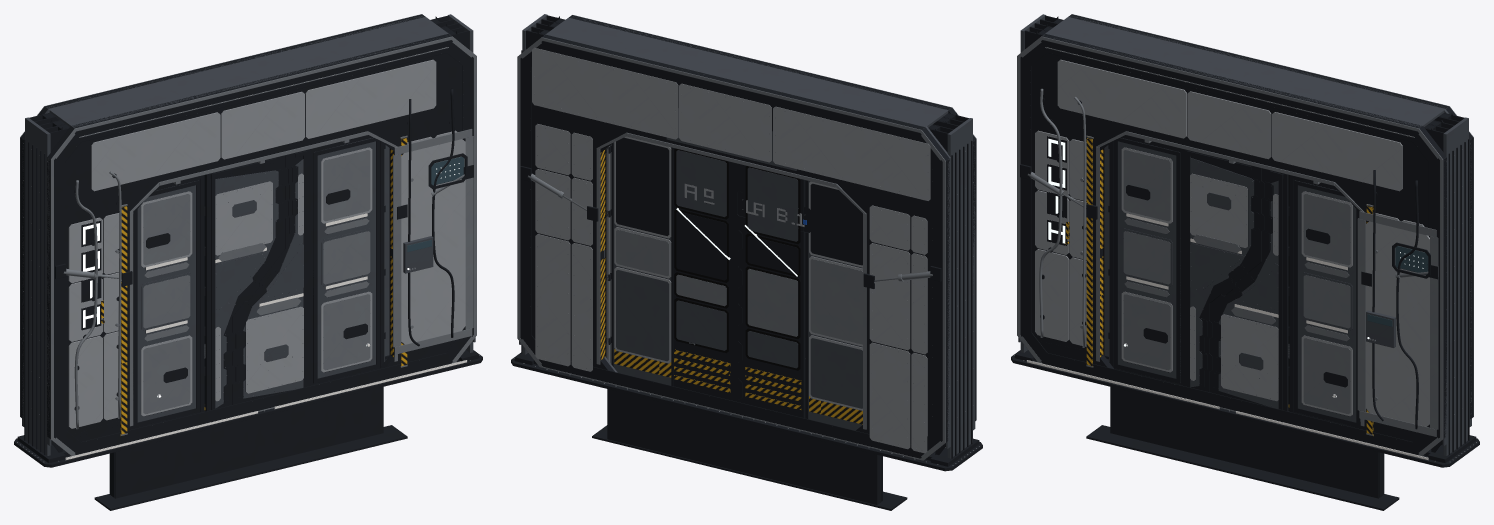
File: SM_TechBlastDoor_v1.fbx
3 views of the same model, side by side, from view 1: azimuth 30°, elevation 25°; view 2: azimuth 150°, elevation 25°; view 3: azimuth 330°, elevation 25° (orthographic).
Visible parts, largest first — view 1: GEO-OL_out_r, GEO-FR_lintel_panels, GEO-OL_out_l, GEO-FR_bezel, GEO-FR_bezel_field, GEO-OL_in_l, GEO-FR_foundation_slot_front, GEO-OL_in_r, GEO-FR_sidewall_r, GEO-FR_shell_top, GEO-FR_bezel_panels, GEO-FR_shell_l (+19 smaller); view 2: GEO-FR_bezel_back_panels, GEO-OD_in_r, GEO-OD_in_l, GEO-FR_bezel_back_field, GEO-OD_out_r, GEO-FR_foundation_slot_b, GEO-OD_out_l, GEO-FR_bezel_back, GEO-FR_shell_top, GEO-FR_bezel_back_rim, GEO-FR_shell_l, GEO-FR_pocket_wall_l (+9 smaller); view 3: GEO-OL_out_l, GEO-FR_lintel_panels, GEO-OL_out_r, GEO-FR_bezel, GEO-FR_bezel_field, GEO-OL_in_l, GEO-FR_foundation_slot_front, GEO-OL_in_r, GEO-FR_shell_top, GEO-FR_sidewall_r, GEO-FR_bezel_panels, GEO-FR_pocket_wall_r (+19 smaller).
Part boxes in pixels (x1,y1,x2,y2): GEO-OL_out_r: [311, 135, 384, 385]; GEO-FR_lintel_panels: [91, 59, 436, 191]; GEO-OL_out_l: [133, 175, 204, 427]; GEO-FR_bezel: [47, 34, 461, 454]; GEO-FR_bezel_field: [54, 40, 473, 454]; GEO-OL_in_l: [205, 155, 287, 411]; GEO-FR_foundation_slot_front: [114, 387, 383, 498]; GEO-OL_in_r: [232, 149, 311, 404]; GEO-FR_sidewall_r: [401, 139, 465, 344]; GEO-FR_shell_top: [46, 15, 450, 127]; GEO-FR_bezel_panels: [68, 130, 457, 428]; GEO-FR_shell_l: [22, 139, 51, 445]; GEO-FR_bezel_back_panels: [532, 48, 930, 453]; GEO-OD_in_r: [671, 147, 742, 401]; GEO-OD_in_l: [737, 163, 810, 418]; GEO-FR_bezel_back_field: [520, 41, 942, 458]; GEO-OD_out_r: [611, 136, 671, 385]; GEO-FR_foundation_slot_b: [607, 389, 877, 504]; GEO-OD_out_l: [806, 180, 862, 430]; GEO-FR_bezel_back: [532, 34, 949, 458]; GEO-FR_shell_top: [544, 16, 950, 128]; GEO-FR_bezel_back_rim: [517, 37, 945, 460]; GEO-FR_shell_l: [946, 140, 975, 448]; GEO-FR_pocket_wall_l: [947, 118, 972, 458]; GEO-OL_out_l: [1109, 135, 1182, 385]; GEO-FR_lintel_panels: [1057, 59, 1402, 191]; GEO-OL_out_r: [1289, 175, 1360, 427]; GEO-FR_bezel: [1032, 34, 1446, 454]; GEO-FR_bezel_field: [1020, 40, 1439, 454]; GEO-OL_in_l: [1182, 149, 1264, 391]; GEO-FR_foundation_slot_front: [1110, 387, 1379, 498]; GEO-OL_in_r: [1209, 168, 1288, 411]; GEO-FR_shell_top: [1043, 15, 1447, 127]; GEO-FR_sidewall_r: [1366, 221, 1429, 426]; GEO-FR_bezel_panels: [1035, 130, 1424, 346]; GEO-FR_pocket_wall_r: [1443, 117, 1468, 455].
Size of the model in its own units: 1092 by 941 by 158.
